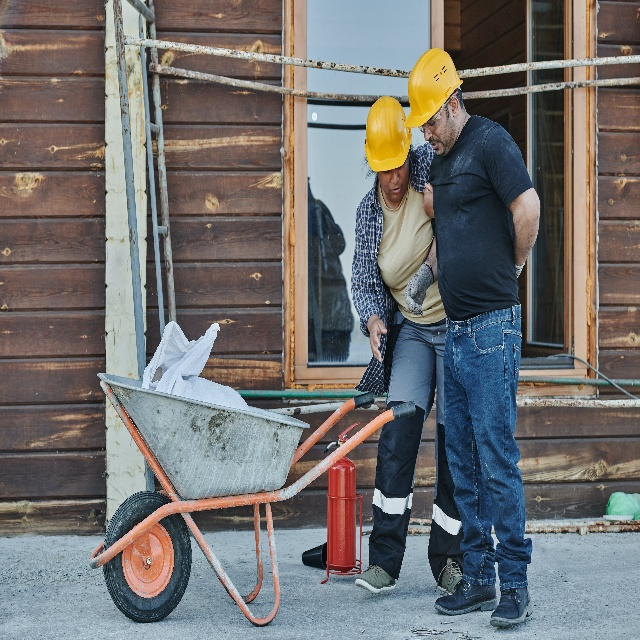Gafas: (419, 89, 459, 135)
Guantes: (404, 263, 434, 316)
Sin_guantes: (369, 318, 387, 362), (423, 181, 435, 219)
